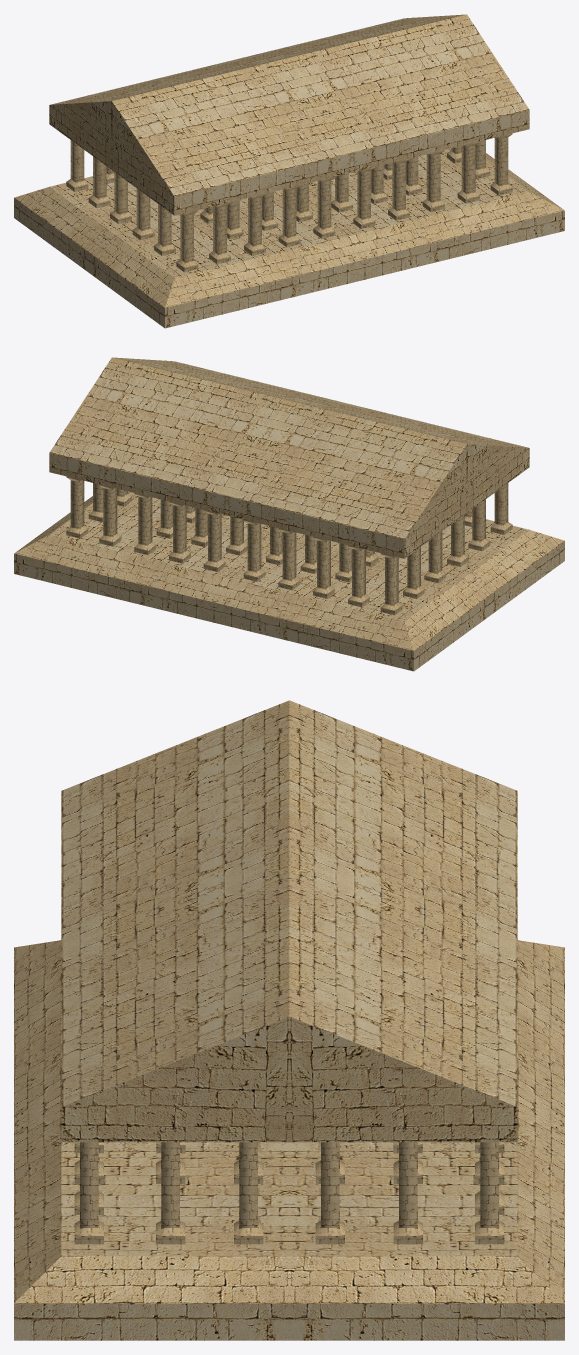
File: ST_GrandTemple_01a.FBX
The picture shows the model from 3 angles, top to bottom: view 1: azimuth 30°, elevation 25°; view 2: azimuth 150°, elevation 25°; view 3: azimuth 270°, elevation 25°; orthographic projection. The views are drawn at different scales.
Parts seen in each view (by area): view 1: Grand temple, pilier grand temple; view 2: Grand temple, pilier grand temple; view 3: Grand temple, pilier grand temple.
Boxes of the visible parts, x1,y1,x2,y2 form: Grand temple: (14,14,564,328); pilier grand temple: (66,133,512,272); Grand temple: (14,357,564,671); pilier grand temple: (66,476,512,615); Grand temple: (14,700,564,1340); pilier grand temple: (74,1142,504,1244).
Size of the model in its own units: 4547 by 1810 by 2973.
